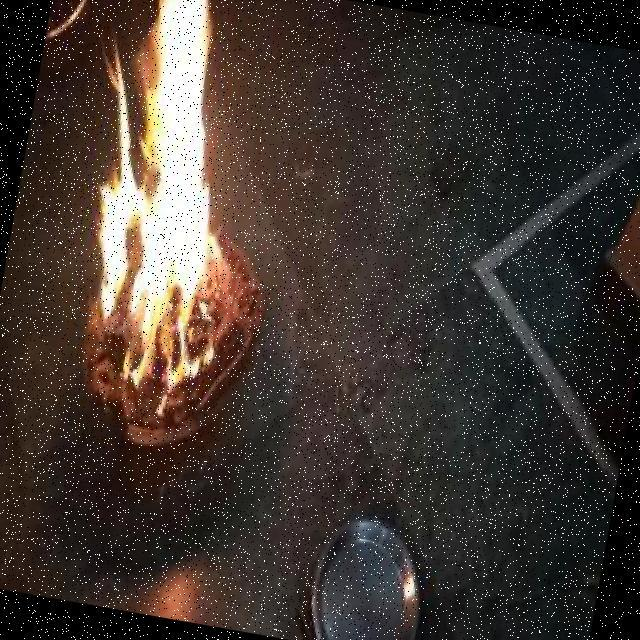Fire: (39, 0, 273, 355)
